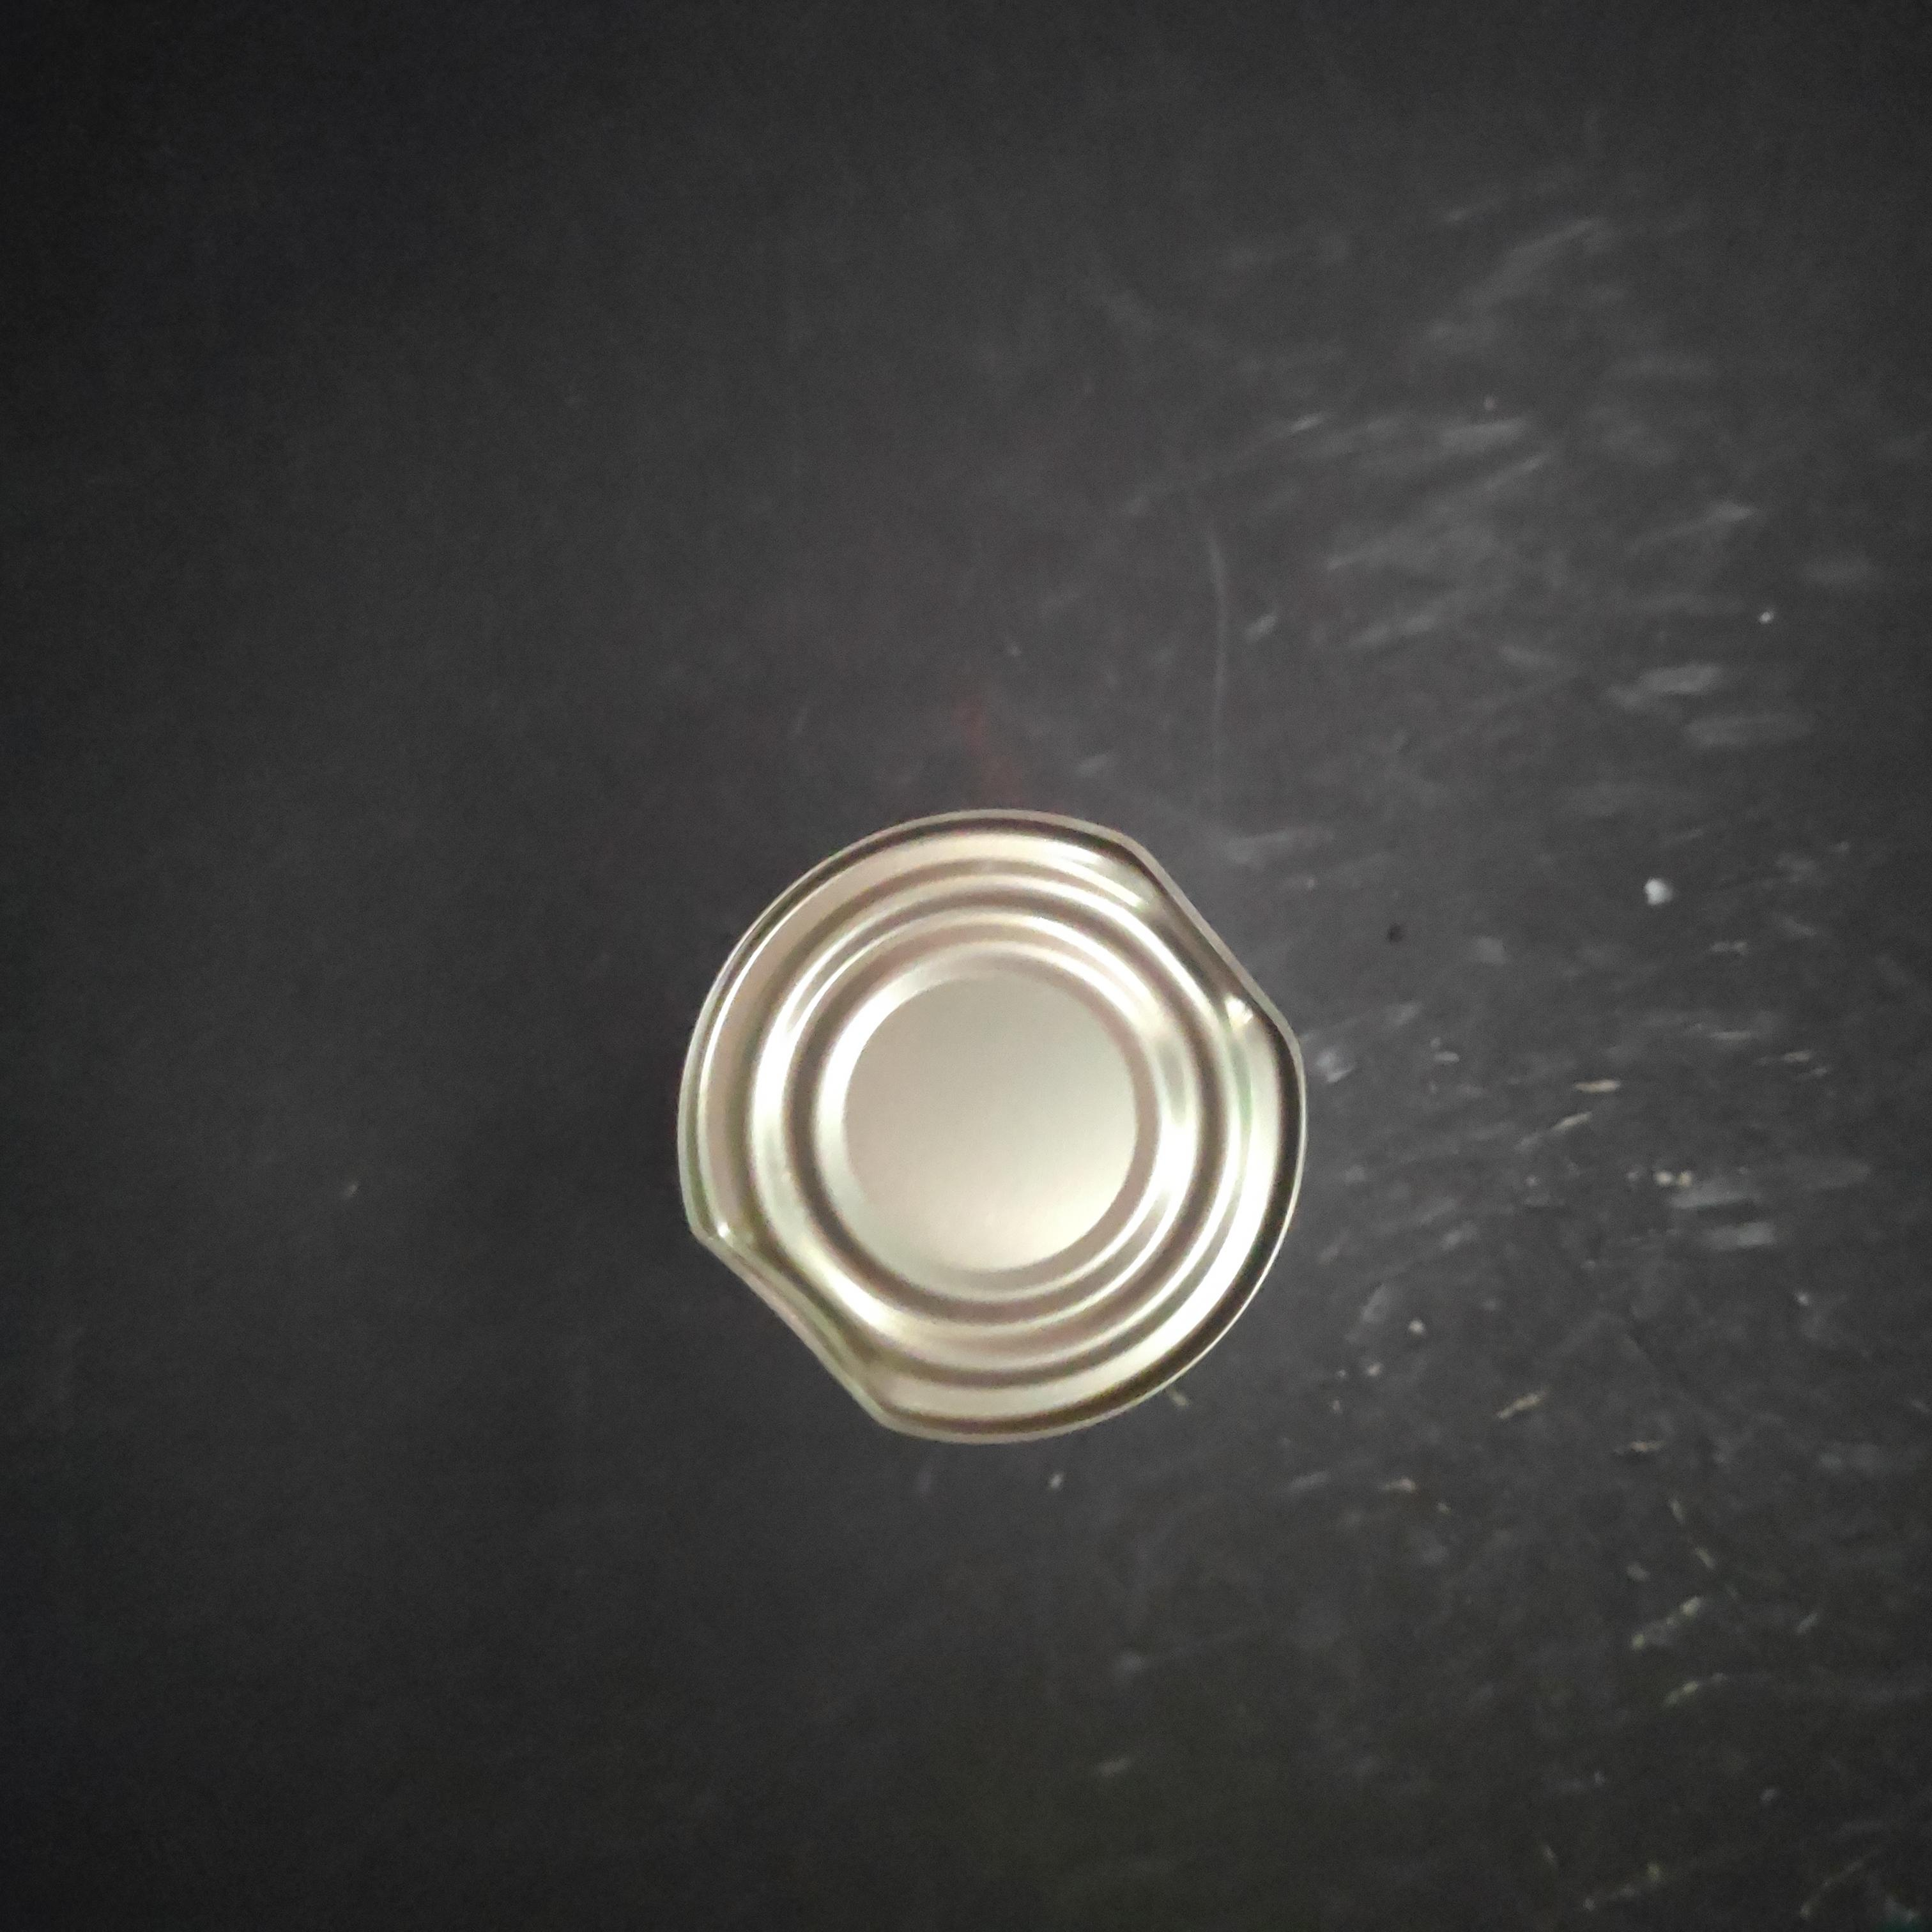Minor Defect: (614, 474, 1269, 1139)
